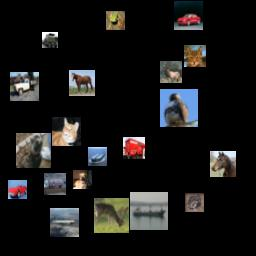airplane: (50, 208, 79, 237)
automobile: (174, 1, 203, 30), (8, 180, 27, 199)
bird: (160, 89, 198, 127)
cat: (16, 133, 51, 168), (52, 117, 81, 146), (184, 45, 206, 67)
deer: (94, 198, 129, 233), (160, 61, 182, 83)
dog: (73, 170, 92, 189)
frog: (185, 193, 204, 212), (106, 11, 125, 30)
ship: (130, 192, 168, 230), (88, 147, 107, 166)
truck: (10, 72, 39, 101), (44, 173, 66, 195), (123, 137, 145, 159), (42, 32, 58, 48)
